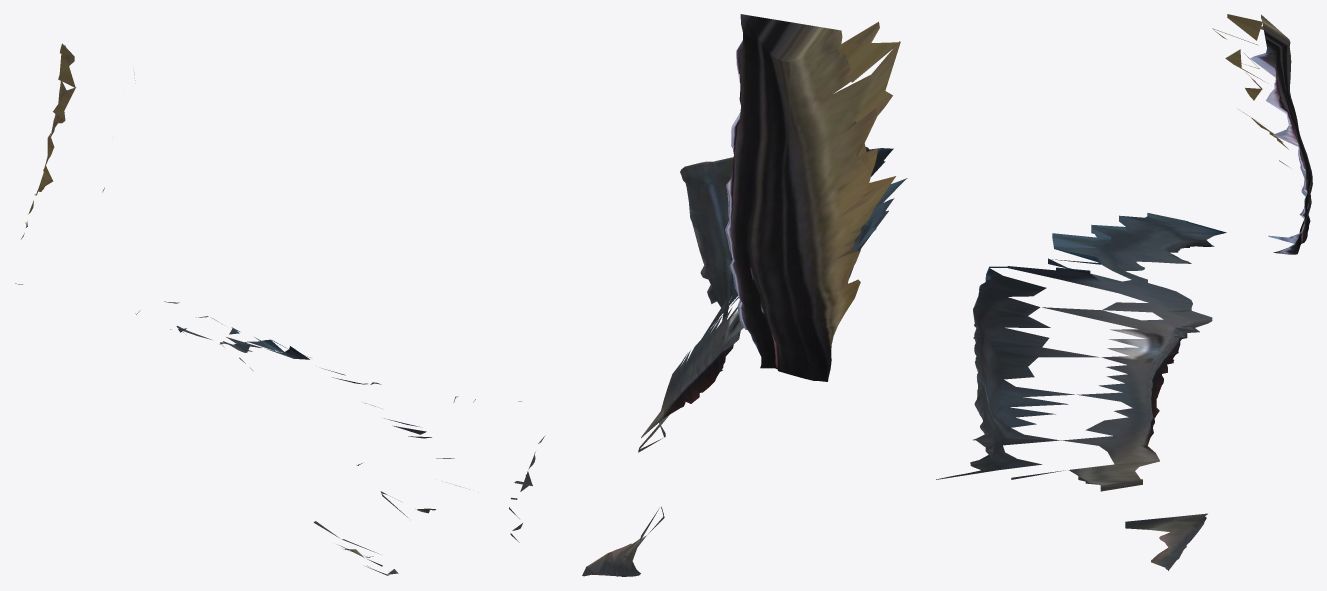
File: observed-surface.glb
3 renders of one model, left to right at view 1: azimuth 30°, elevation 25°; view 2: azimuth 150°, elevation 25°; view 3: azimuth 270°, elevation 25°, orthographic. The views are drawn at different scales.
Visible parts, largest first — view 1: geometry_0; view 2: geometry_0; view 3: geometry_0.
Part boxes in pixels (x1,y1,x2,y2): geometry_0: (15, 43, 545, 575); geometry_0: (582, 14, 907, 576); geometry_0: (936, 14, 1312, 570).
Bounding box in the file's own units: 0.451 × 0.7171 × 0.5381.
1 material, 1 textured.
